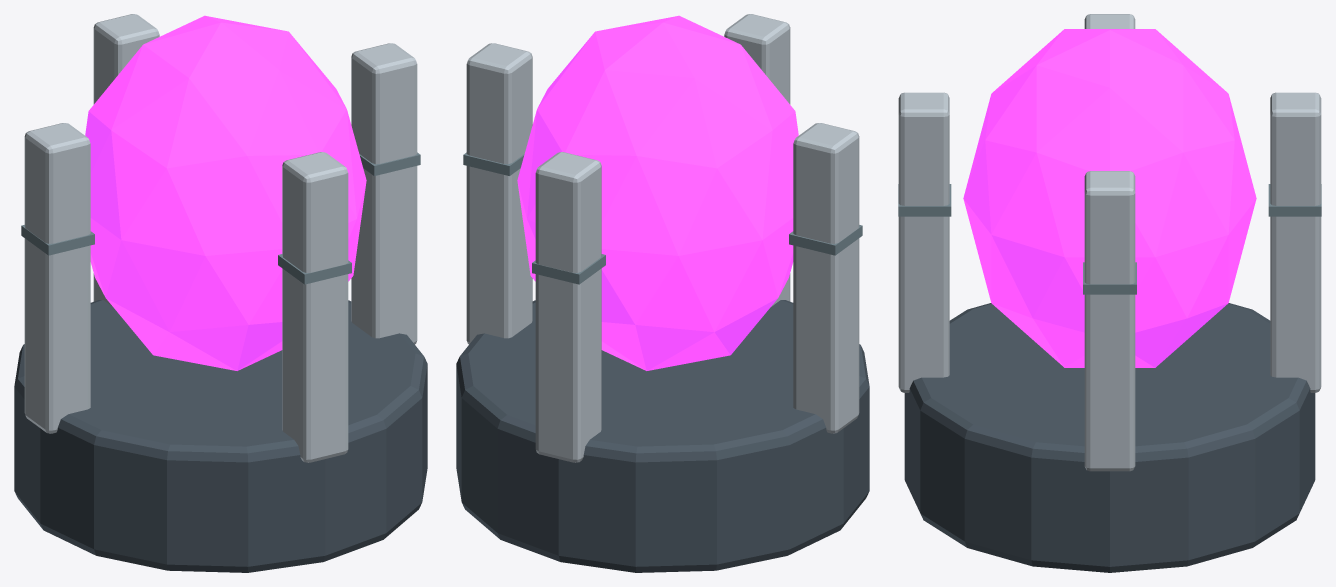
The model's file is Core-Reactor.glb.
3 renders of one model, left to right at view 1: azimuth 30°, elevation 25°; view 2: azimuth 150°, elevation 25°; view 3: azimuth 270°, elevation 25°, orthographic.
Parts seen in each view (by area): view 1: Central_Core_Base.001, Central_Core.001, Core_Pylon_3.001, Core_Pylon_2.001, Core_Pylon_0.001, Core_Pylon_1.001, Detail_Assembly; view 2: Central_Core_Base.001, Central_Core.001, Core_Pylon_1.001, Core_Pylon_2.001, Core_Pylon_0.001, Core_Pylon_3.001, Detail_Assembly; view 3: Central_Core_Base.001, Central_Core.001, Core_Pylon_0.001, Core_Pylon_1.001, Core_Pylon_3.001, Detail_Assembly, Core_Pylon_2.001.
Boxes of the visible parts, box(x1,y1,x2,y2) form: Central_Core_Base.001: box(14, 300, 427, 572); Central_Core.001: box(85, 15, 366, 370); Core_Pylon_3.001: box(282, 152, 348, 462); Core_Pylon_2.001: box(24, 123, 90, 433); Core_Pylon_0.001: box(351, 43, 417, 344); Core_Pylon_1.001: box(93, 14, 159, 306); Detail_Assembly: box(21, 152, 420, 284); Central_Core_Base.001: box(456, 300, 869, 572); Central_Core.001: box(517, 15, 798, 370); Core_Pylon_1.001: box(535, 152, 601, 462); Core_Pylon_2.001: box(793, 123, 859, 433); Core_Pylon_0.001: box(466, 43, 532, 344); Core_Pylon_3.001: box(724, 14, 790, 306); Detail_Assembly: box(463, 152, 862, 284); Central_Core_Base.001: box(904, 303, 1315, 572); Central_Core.001: box(963, 29, 1256, 367); Core_Pylon_0.001: box(1084, 171, 1135, 471); Core_Pylon_1.001: box(1270, 92, 1321, 392); Core_Pylon_3.001: box(898, 92, 949, 392); Detail_Assembly: box(898, 184, 1321, 294); Core_Pylon_2.001: box(1084, 14, 1135, 28).
Bounding box in the file's own units: 2.16 × 2.6 × 2.16.
